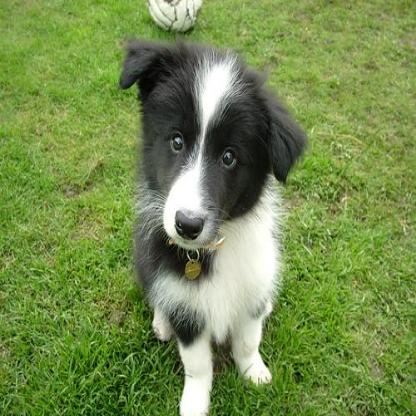Border_collie: (113, 27, 310, 413)
